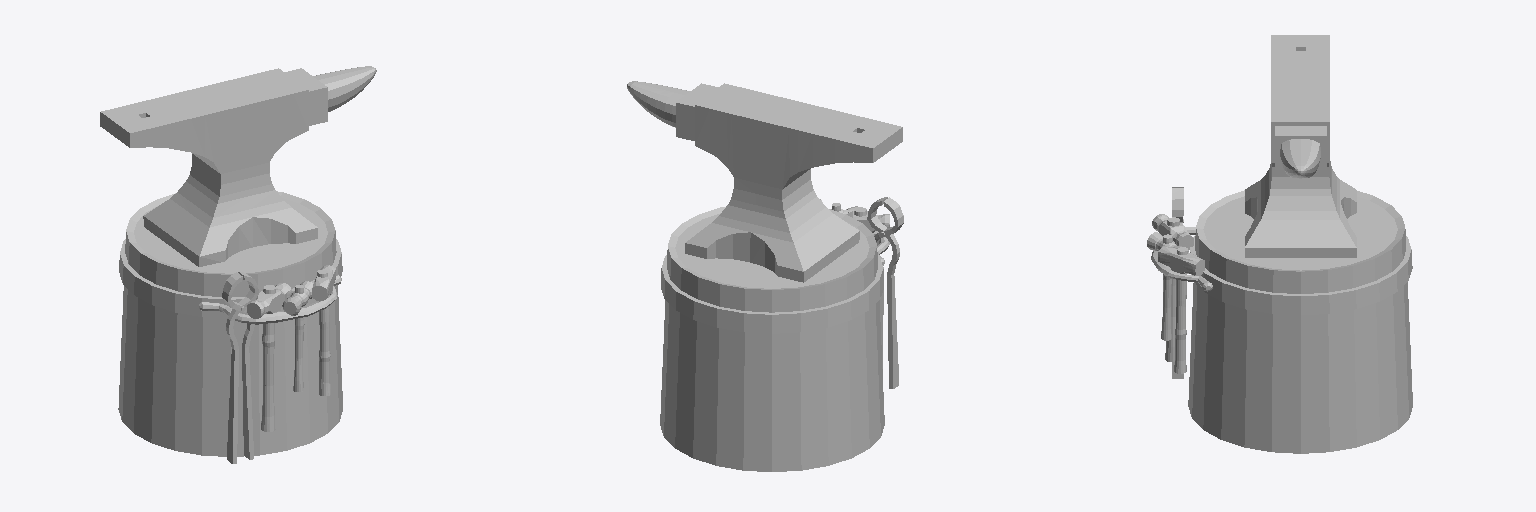
The model's file is Anvil_Log.obj.
3 views of the same model, side by side, from view 1: azimuth 30°, elevation 25°; view 2: azimuth 150°, elevation 25°; view 3: azimuth 270°, elevation 25° (orthographic).
Parts seen in each view (by area): view 1: Anvil_Log_Cylinder.036; view 2: Anvil_Log_Cylinder.036; view 3: Anvil_Log_Cylinder.036.
Part boxes in pixels (bbox=[...]): Anvil_Log_Cylinder.036: bbox=[100, 66, 376, 463]; Anvil_Log_Cylinder.036: bbox=[627, 81, 903, 471]; Anvil_Log_Cylinder.036: bbox=[1147, 35, 1412, 453].
Bounding box in the file's own units: 0.9293 × 1.07 × 0.8214.